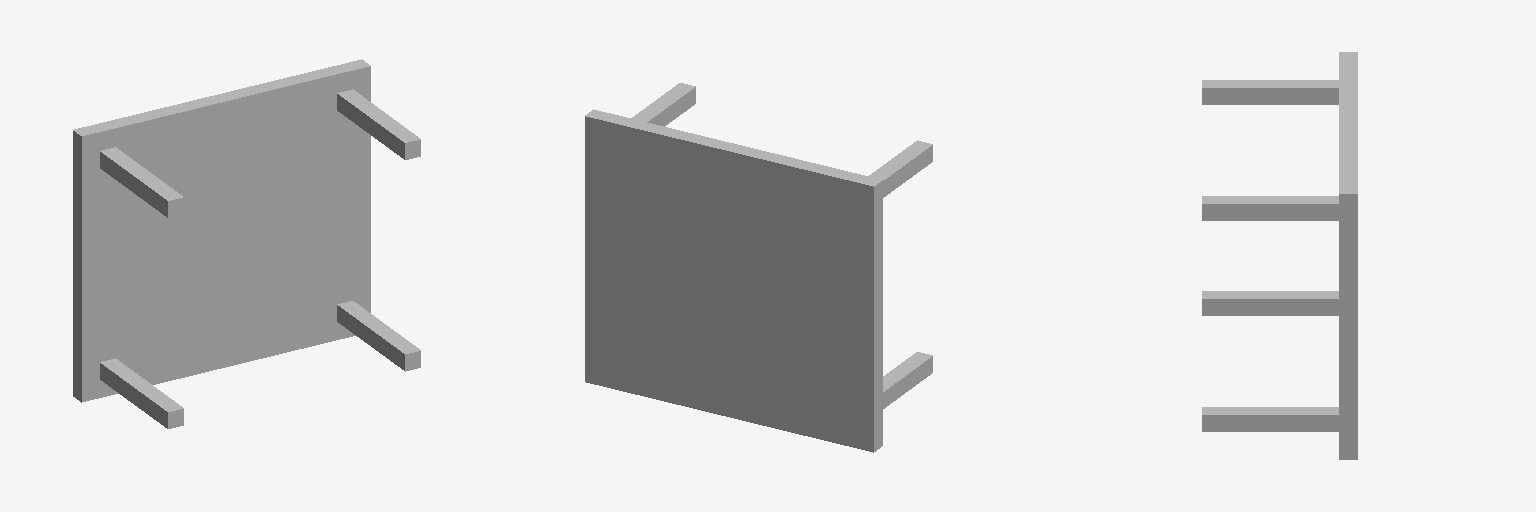
Rendered from random_table33.obj.
3 views of the same model, side by side, from view 1: azimuth 30°, elevation 25°; view 2: azimuth 150°, elevation 25°; view 3: azimuth 270°, elevation 25° (orthographic).
Parts seen in each view (by area): view 1: Table_Cube.360, TableLeg0_Cube.361, TableLeg1_Cube.362, TableLeg2_Cube.363, TableLeg3_Cube.364; view 2: Table_Cube.360, TableLeg1_Cube.362, TableLeg3_Cube.364, TableLeg0_Cube.361; view 3: Table_Cube.360, TableLeg0_Cube.361, TableLeg1_Cube.362, TableLeg2_Cube.363, TableLeg3_Cube.364.
Part boxes in pixels (bbox=[...]): Table_Cube.360: bbox=[73, 59, 370, 402]; TableLeg0_Cube.361: bbox=[337, 89, 420, 159]; TableLeg1_Cube.362: bbox=[100, 147, 183, 217]; TableLeg2_Cube.363: bbox=[337, 301, 420, 371]; TableLeg3_Cube.364: bbox=[100, 358, 183, 428]; Table_Cube.360: bbox=[585, 109, 882, 452]; TableLeg1_Cube.362: bbox=[869, 140, 932, 197]; TableLeg3_Cube.364: bbox=[883, 352, 932, 408]; TableLeg0_Cube.361: bbox=[631, 83, 695, 126]; Table_Cube.360: bbox=[1339, 52, 1357, 459]; TableLeg0_Cube.361: bbox=[1202, 196, 1338, 220]; TableLeg1_Cube.362: bbox=[1202, 80, 1338, 104]; TableLeg2_Cube.363: bbox=[1202, 407, 1338, 431]; TableLeg3_Cube.364: bbox=[1202, 291, 1338, 315].
Size of the model in its own units: 6.5 by 5.71 by 3.02.